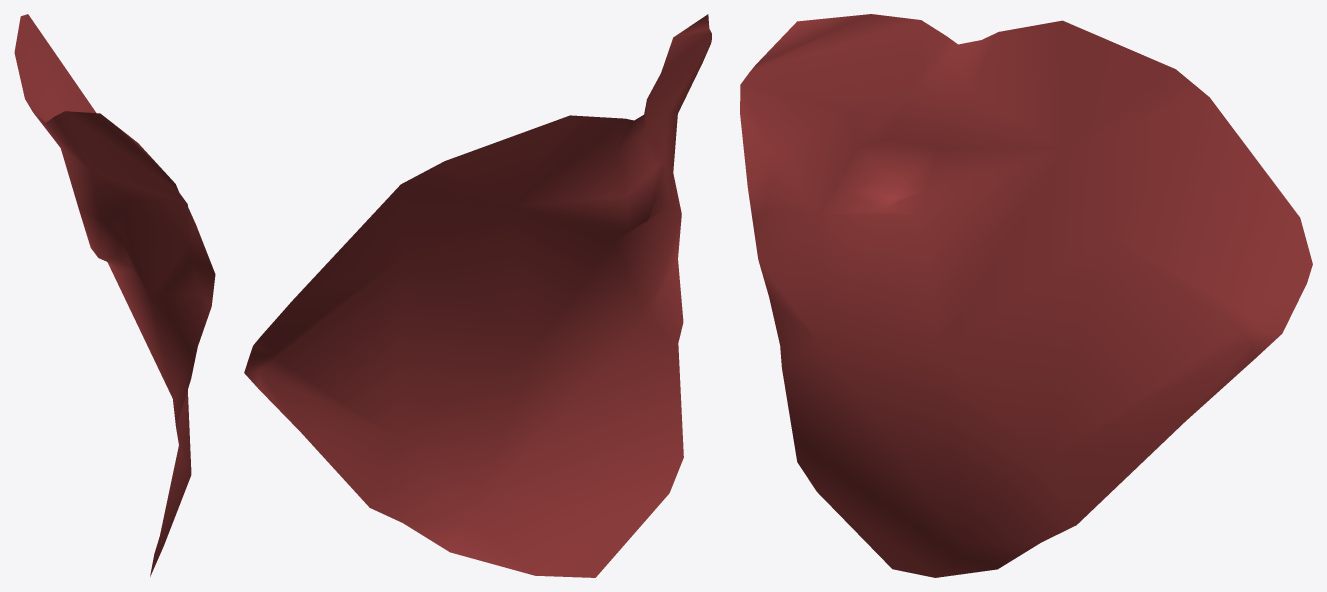
The model's file is tibialis-anterior-muscle-er.glb.
3 views of the same model, side by side, from view 1: azimuth 30°, elevation 25°; view 2: azimuth 150°, elevation 25°; view 3: azimuth 270°, elevation 25° (orthographic). The views are drawn at different scales.
Visible parts, largest first — view 1: Tibialis anterior muscle.er; view 2: Tibialis anterior muscle.er; view 3: Tibialis anterior muscle.er.
Boxes of the visible parts, x1,y1,x2,y2 form: Tibialis anterior muscle.er: [14, 14, 215, 576]; Tibialis anterior muscle.er: [244, 14, 711, 577]; Tibialis anterior muscle.er: [740, 14, 1312, 577].
Size of the model in its own units: 0.00607 by 0.0136 by 0.0135.
